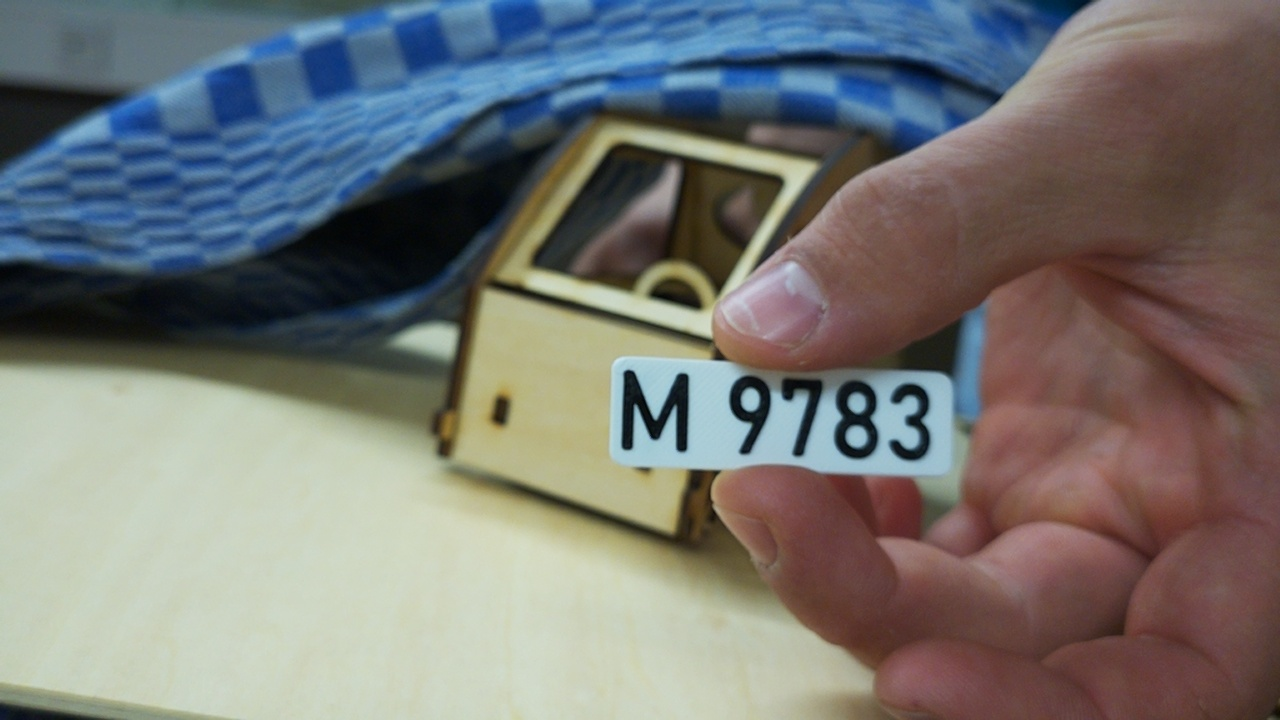license_plate: (605, 352, 956, 478)
